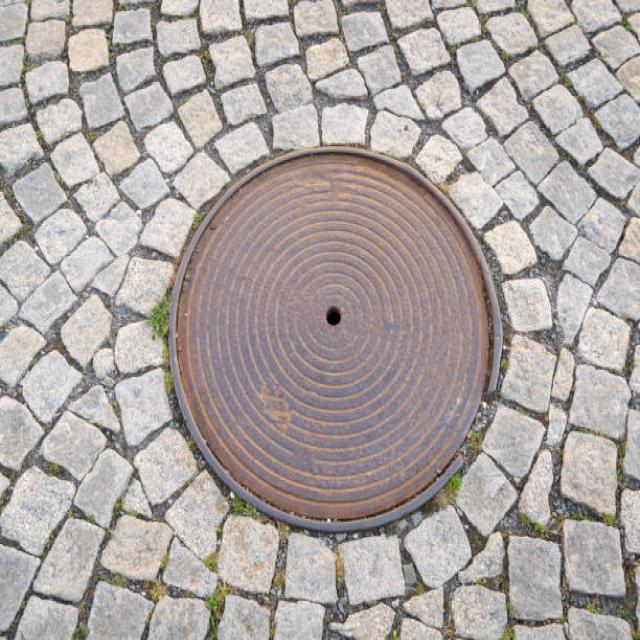Good: (160, 143, 510, 534)
